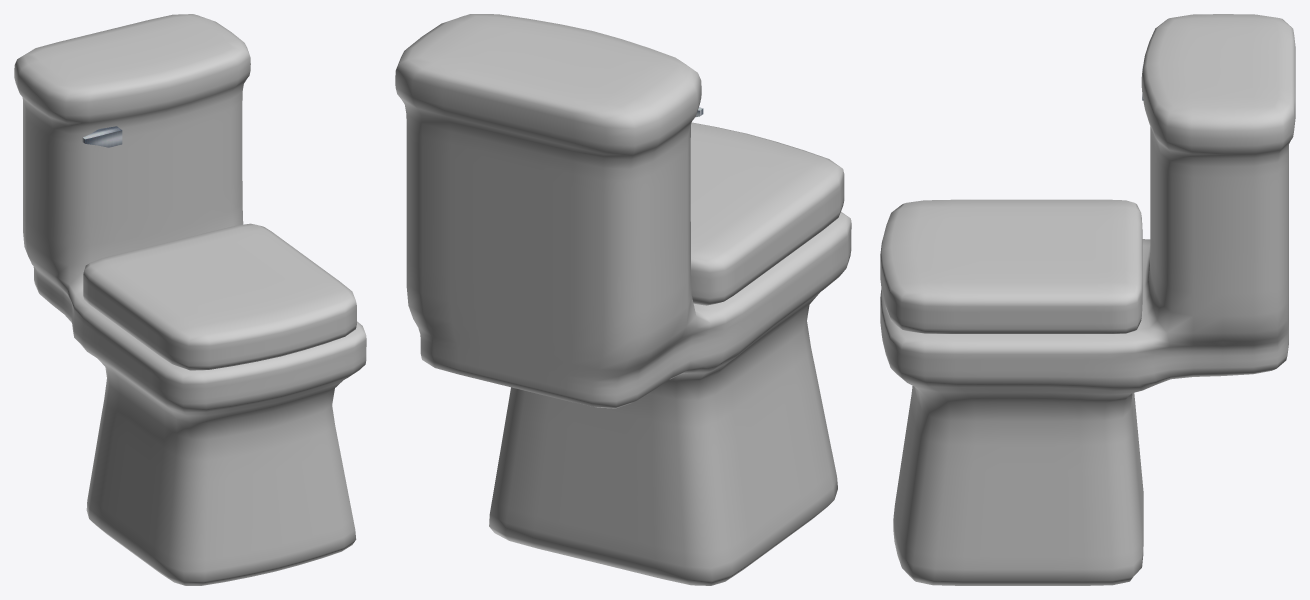
The picture shows the model from 3 angles, left to right: view 1: azimuth 30°, elevation 25°; view 2: azimuth 150°, elevation 25°; view 3: azimuth 270°, elevation 25°; orthographic projection. The views are drawn at different scales.
Visible parts, largest first — view 1: WC, Tapa, Cube.001; view 2: WC, Tapa; view 3: WC, Tapa.
Boxes of the visible parts, <box> form: WC: <box>14,14,366,585</box>; Tapa: <box>83,223,356,370</box>; Cube.001: <box>82,126,122,147</box>; WC: <box>395,14,851,585</box>; Tapa: <box>690,122,844,305</box>; WC: <box>880,14,1295,585</box>; Tapa: <box>880,199,1142,333</box>.
Bounding box in the file's own units: 416 × 828 × 651.
